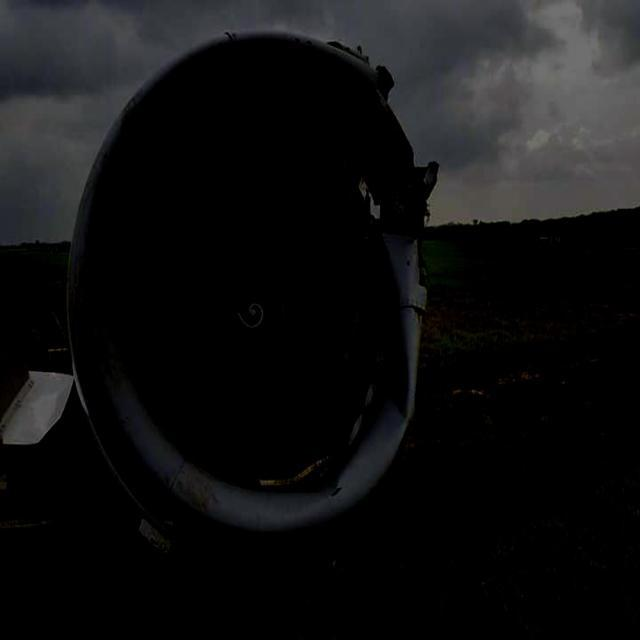dent: (381, 344, 415, 447), (384, 218, 419, 263)
